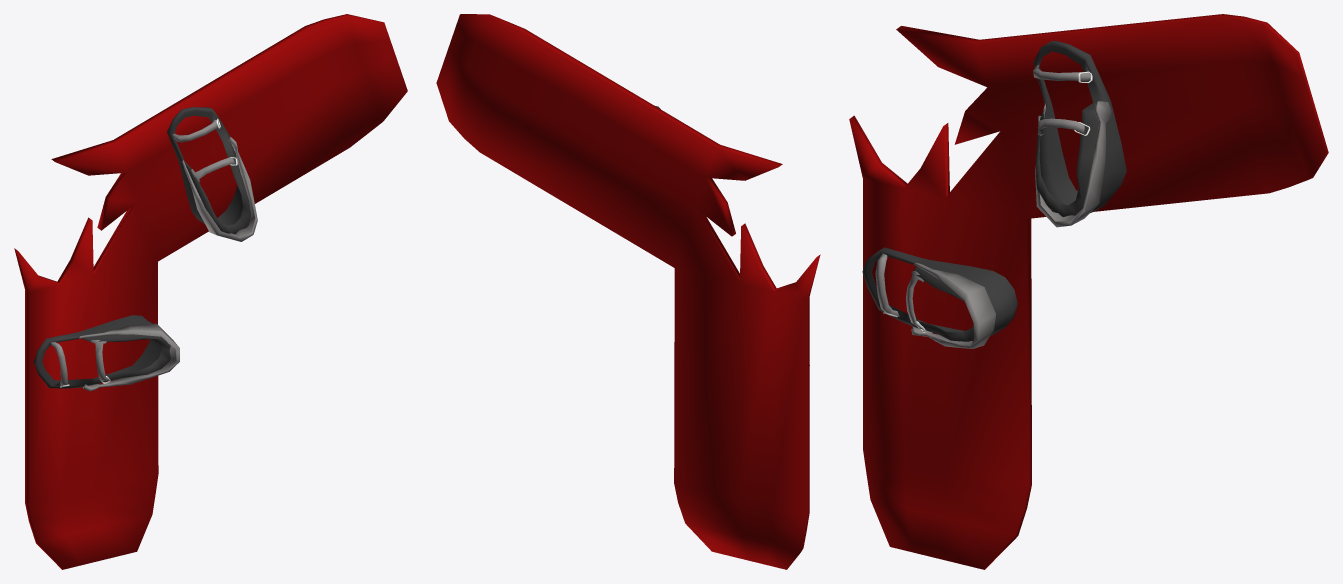
File: Snowboard.fbx
The picture shows the model from 3 angles, left to right: view 1: azimuth 30°, elevation 25°; view 2: azimuth 150°, elevation 25°; view 3: azimuth 330°, elevation 25°; orthographic projection. The views are drawn at different scales.
Visible parts, largest first — view 1: Snowboard; view 2: Snowboard; view 3: Snowboard.
Boxes of the visible parts, x1,y1,x2,y2 form: Snowboard: (14,14,407,569); Snowboard: (436,14,820,569); Snowboard: (849,14,1328,569).
Bounding box in the file's own units: 93.06 × 111 × 14.31.
